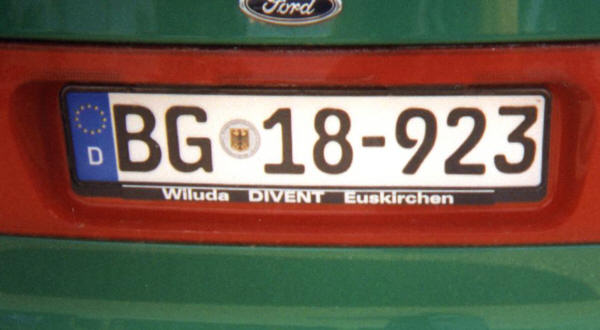license_plate: (62, 85, 549, 193)
